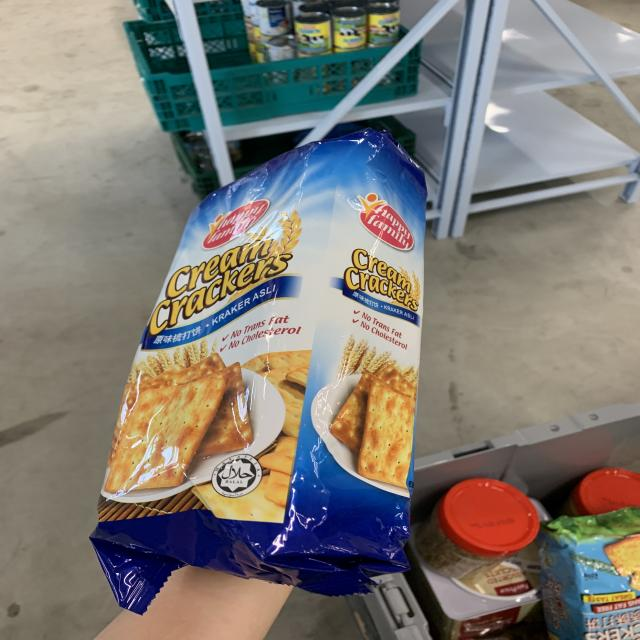object_name: (143, 149, 407, 569)
